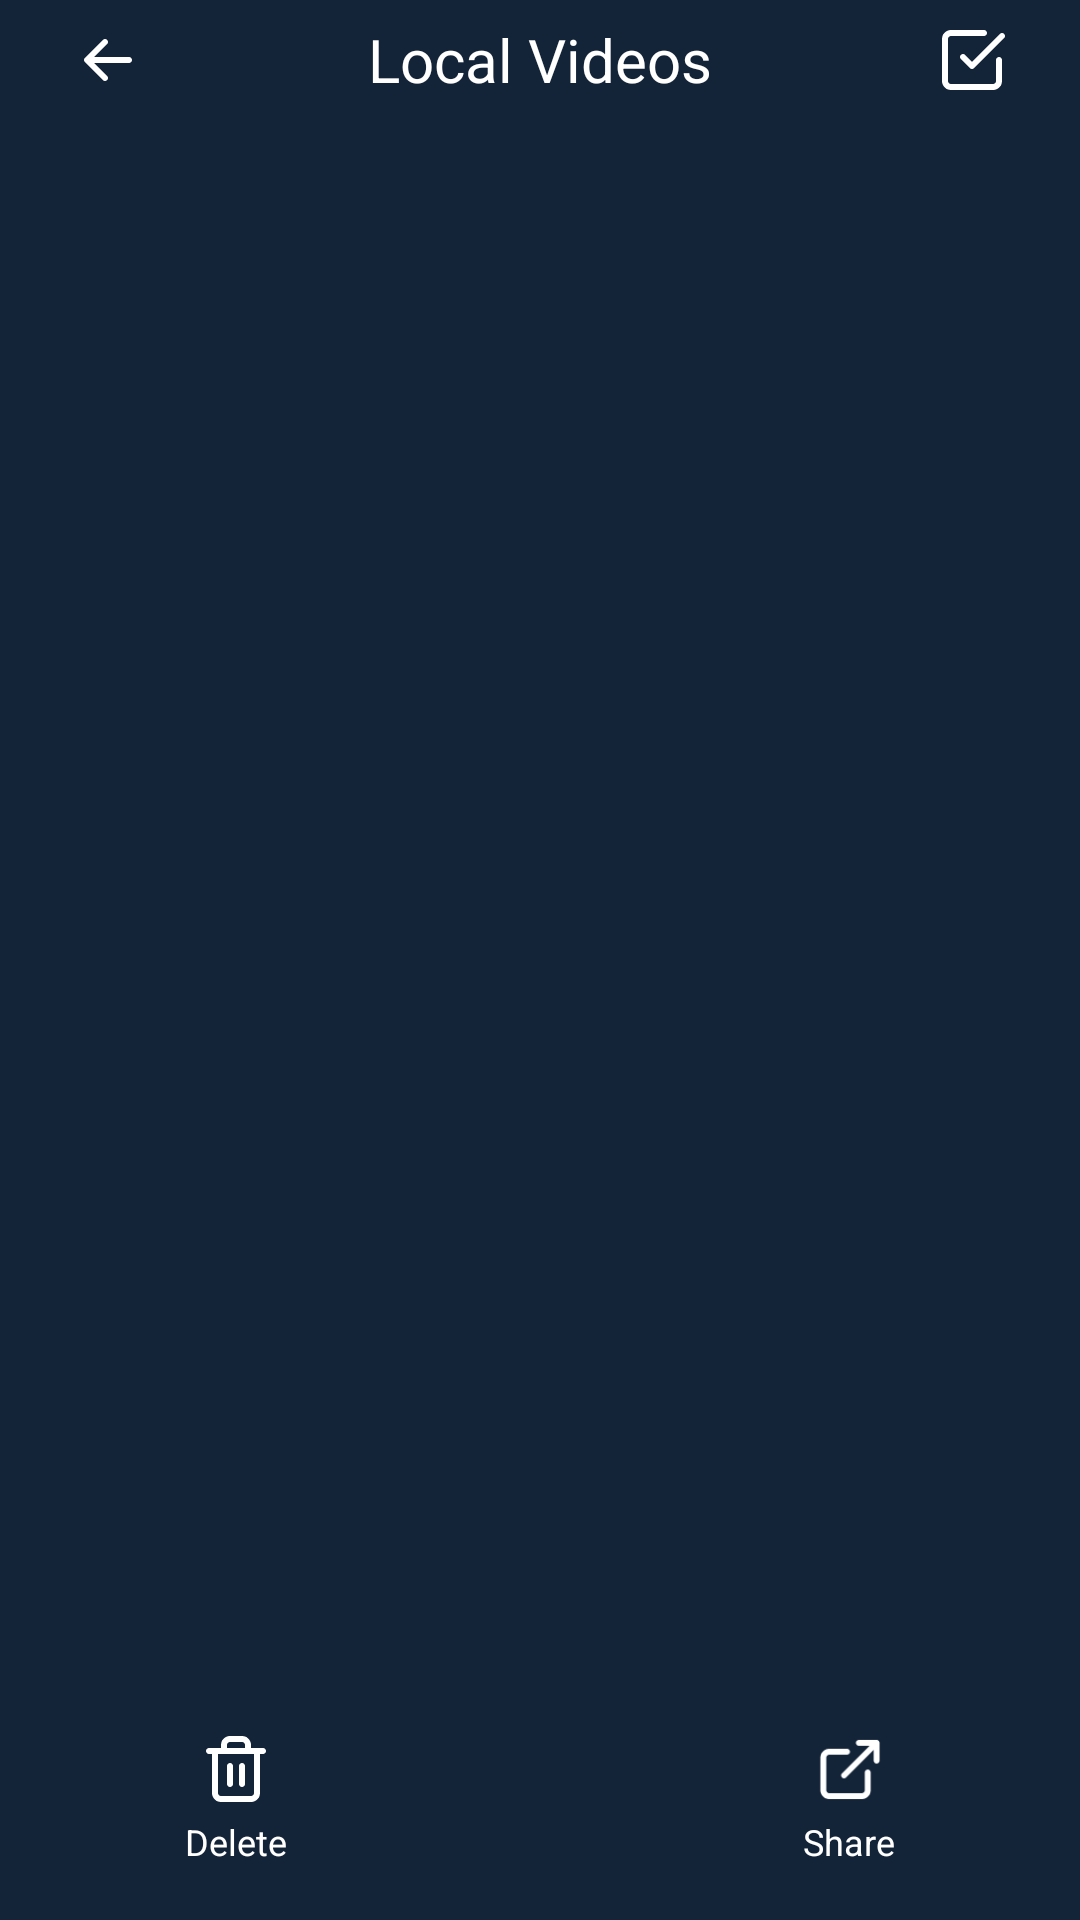

Locate icon controls on the screen. Image size 1080w x 1920h, boxes as (x1, y1, x2, y2).
back: (84, 39, 132, 81)
check: (942, 30, 1005, 90)
